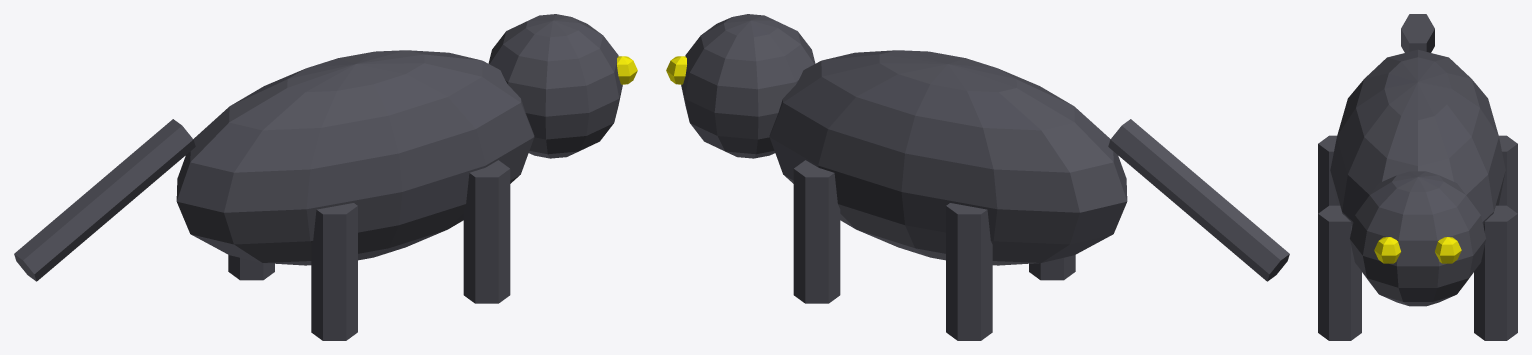
The model's file is panther.dae.
3 renders of one model, left to right at view 1: azimuth 30°, elevation 25°; view 2: azimuth 150°, elevation 25°; view 3: azimuth 270°, elevation 25°, orthographic. The views are drawn at different scales.
Parts seen in each view (by area): view 1: Sphere, Sphere.001, Cylinder, Cylinder.002, Cylinder.004, Cylinder.003, Sphere.002; view 2: Sphere, Sphere.001, Cylinder, Cylinder.001, Cylinder.003, Cylinder.004, Sphere.003; view 3: Sphere, Sphere.001, Cylinder.002, Cylinder.001, Cylinder, Cylinder.004, Cylinder.003, Sphere.003, Sphere.002.
Boxes of the visible parts, box(x1,y1,x2,y2) form: Sphere: box(176, 50, 534, 265); Sphere.001: box(488, 14, 622, 158); Cylinder: box(14, 119, 195, 281); Cylinder.002: box(463, 160, 510, 303); Cylinder.004: box(311, 203, 357, 340); Cylinder.003: box(228, 255, 274, 280); Sphere.002: box(617, 56, 637, 84); Sphere: box(769, 50, 1127, 265); Sphere.001: box(681, 14, 815, 158); Cylinder: box(1108, 119, 1289, 281); Cylinder.001: box(793, 160, 840, 303); Cylinder.003: box(946, 203, 992, 340); Cylinder.004: box(1029, 255, 1075, 280); Sphere.003: box(666, 56, 686, 84); Sphere: box(1330, 49, 1505, 227); Sphere.001: box(1350, 171, 1485, 306); Cylinder.002: box(1318, 205, 1361, 340); Cylinder.001: box(1474, 205, 1517, 340); Cylinder: box(1401, 14, 1434, 52); Cylinder.004: box(1318, 135, 1337, 213); Cylinder.003: box(1498, 135, 1517, 213); Sphere.003: box(1435, 237, 1461, 263); Sphere.002: box(1374, 237, 1400, 263).
Size of the model in its own units: 268 by 82 by 95.
